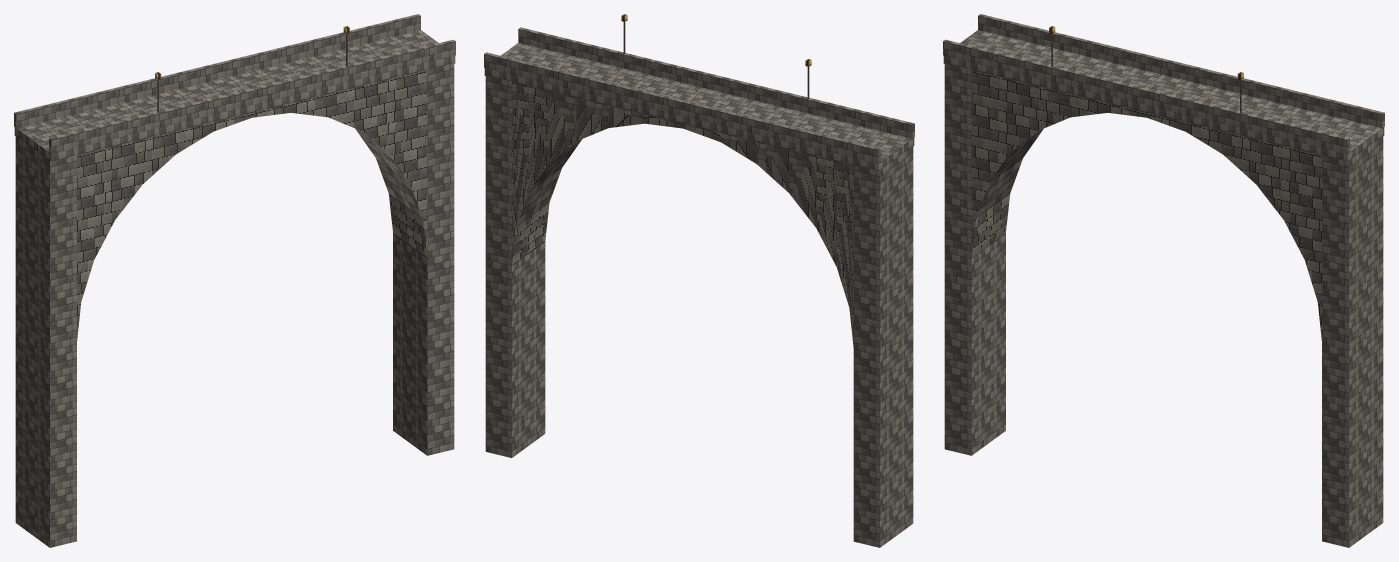
The model's file is puente_piedra.obj.
3 renders of one model, left to right at view 1: azimuth 30°, elevation 25°; view 2: azimuth 150°, elevation 25°; view 3: azimuth 330°, elevation 25°, orthographic. The views are drawn at different scales.
Parts seen in each view (by area): view 1: puente_piedra; view 2: puente_piedra; view 3: puente_piedra.
Boxes of the visible parts, bbox=[...] form: puente_piedra: bbox=[14, 14, 455, 547]; puente_piedra: bbox=[484, 14, 914, 547]; puente_piedra: bbox=[943, 14, 1384, 547].
Bounding box in the file's own units: 30 × 31.8 × 4.8.
Materials: 3 (3 with a texture image).
